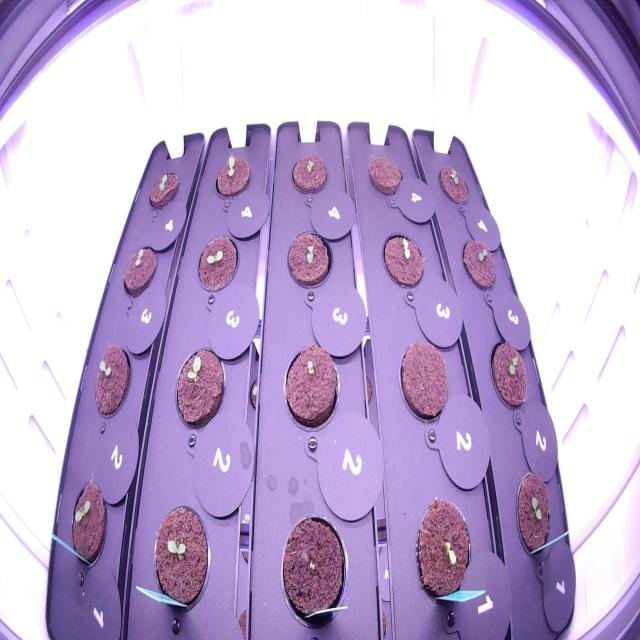germination: (146, 497, 216, 628), (410, 486, 476, 614), (276, 336, 344, 437), (170, 339, 230, 444), (64, 469, 113, 580), (511, 464, 555, 570), (280, 225, 336, 300), (87, 339, 135, 425), (189, 229, 243, 301), (488, 331, 532, 417), (377, 226, 430, 295), (209, 147, 256, 210), (457, 231, 500, 299), (118, 240, 161, 304), (287, 144, 333, 203), (435, 155, 472, 216), (145, 164, 183, 215)
pod: (272, 508, 354, 630), (392, 335, 453, 433), (363, 146, 407, 206)
